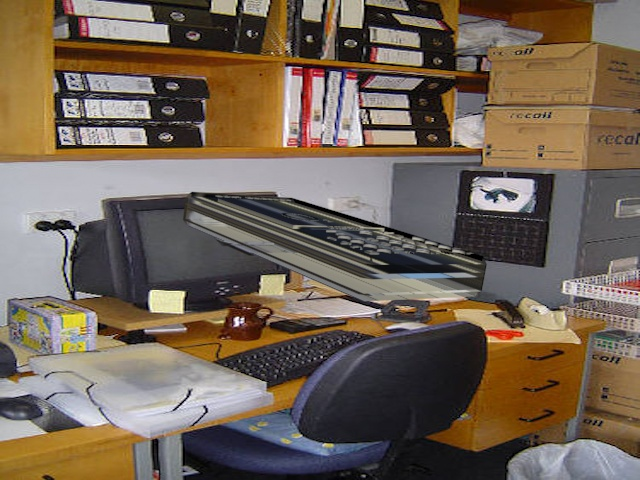mobile_phone: (176, 185, 496, 304)
